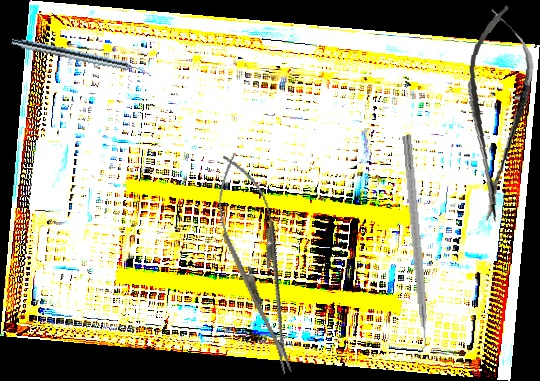Chopper: (389, 134, 432, 360)
Handpiece: (10, 36, 153, 79)
Micro Scissor: (454, 1, 540, 226)
Needle Holder: (202, 148, 313, 381)
